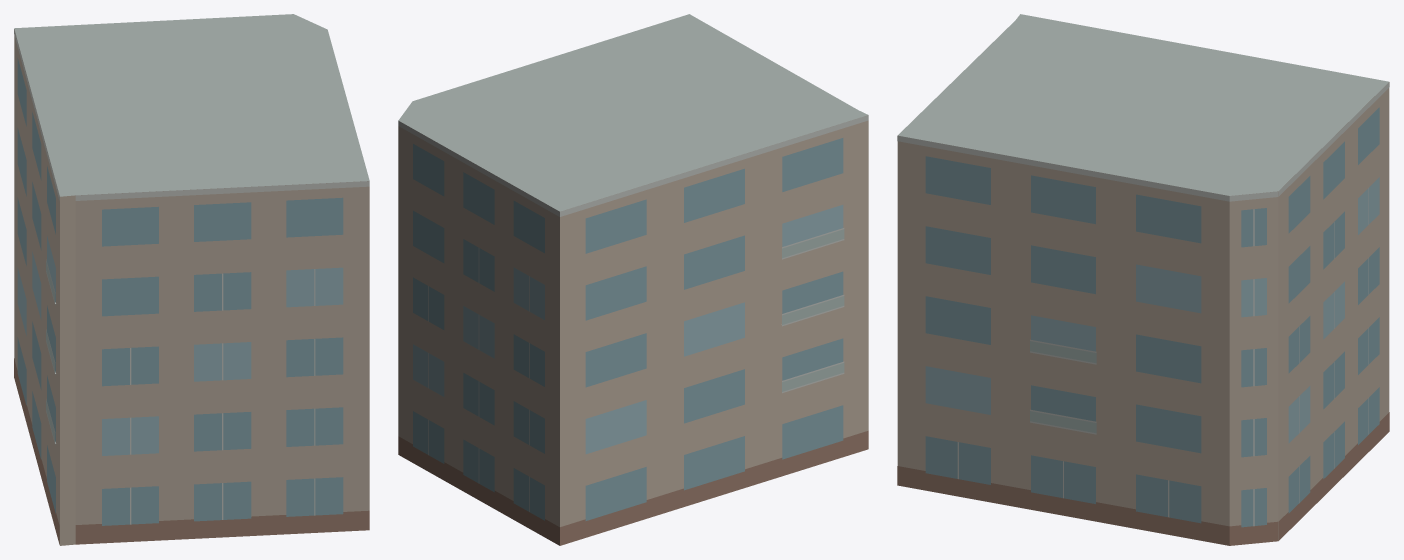
File: survey-upis-32527640.glb
3 views of the same model, side by side, from view 1: azimuth 30°, elevation 25°; view 2: azimuth 150°, elevation 25°; view 3: azimuth 270°, elevation 25° (orthographic). The views are drawn at different scales.
Visible parts, largest first — view 1: survey-upis-32527640.tmp; view 2: survey-upis-32527640.tmp; view 3: survey-upis-32527640.tmp.
Boxes of the visible parts, left/top/right/bottom form: survey-upis-32527640.tmp: left=14, top=14, right=369, bottom=545; survey-upis-32527640.tmp: left=398, top=14, right=868, bottom=545; survey-upis-32527640.tmp: left=897, top=14, right=1389, bottom=545.
Bounding box in the file's own units: 16.8 × 15.05 × 19.19.
